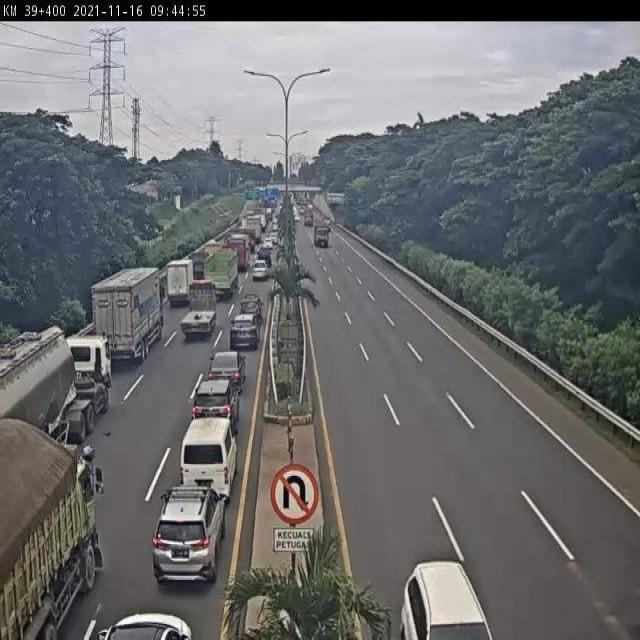Bus: (223, 232, 250, 272)
Car: (151, 483, 227, 586), (398, 560, 493, 640), (94, 609, 193, 640), (190, 377, 242, 434), (207, 351, 247, 386), (229, 314, 259, 349), (240, 292, 264, 323), (252, 260, 268, 281), (257, 244, 273, 264), (262, 238, 274, 250), (269, 232, 279, 245), (294, 216, 300, 222)
Truck: (0, 414, 105, 639), (0, 320, 112, 443), (89, 264, 166, 364), (179, 278, 220, 339), (203, 247, 240, 296), (166, 259, 195, 307), (233, 226, 257, 253), (188, 251, 210, 277), (313, 223, 332, 249), (302, 206, 314, 228), (257, 215, 267, 232), (264, 208, 272, 223)
Van: (178, 414, 239, 500)
